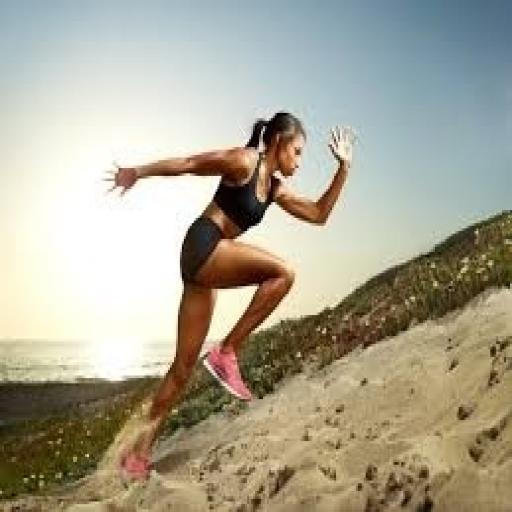running: (105, 108, 358, 483)
